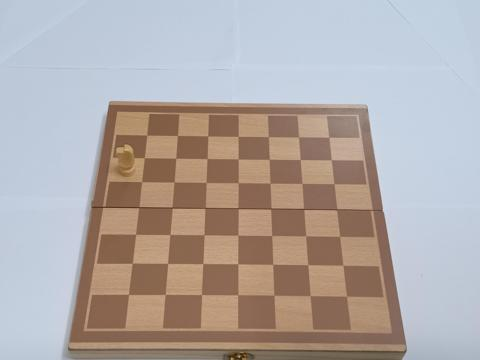xcorner: (139, 153, 149, 163), (136, 177, 146, 187), (130, 230, 140, 240), (160, 291, 170, 301), (201, 178, 211, 188), (199, 231, 209, 241), (198, 260, 208, 270), (197, 291, 207, 301), (233, 154, 243, 164), (269, 261, 279, 271), (270, 292, 280, 302), (294, 132, 304, 142), (296, 155, 306, 165), (300, 205, 310, 215), (142, 130, 151, 140), (134, 203, 143, 213), (127, 260, 137, 269), (172, 131, 182, 140), (203, 131, 212, 141), (202, 154, 212, 163), (200, 204, 210, 213), (233, 132, 243, 141), (234, 204, 243, 214), (266, 179, 275, 189), (268, 232, 277, 242), (298, 180, 308, 189), (302, 233, 312, 242), (307, 293, 317, 302), (330, 180, 340, 189), (333, 206, 343, 215), (337, 233, 346, 243), (340, 262, 349, 272), (344, 293, 353, 303), (124, 291, 133, 300), (171, 154, 180, 163), (169, 178, 178, 187), (167, 204, 176, 213), (165, 231, 174, 240), (163, 260, 172, 269), (234, 179, 243, 188), (234, 232, 243, 241), (234, 261, 243, 270), (234, 292, 243, 301), (264, 132, 273, 141), (265, 155, 274, 164), (267, 205, 276, 214), (305, 262, 314, 271), (325, 133, 334, 142), (328, 156, 337, 165)
